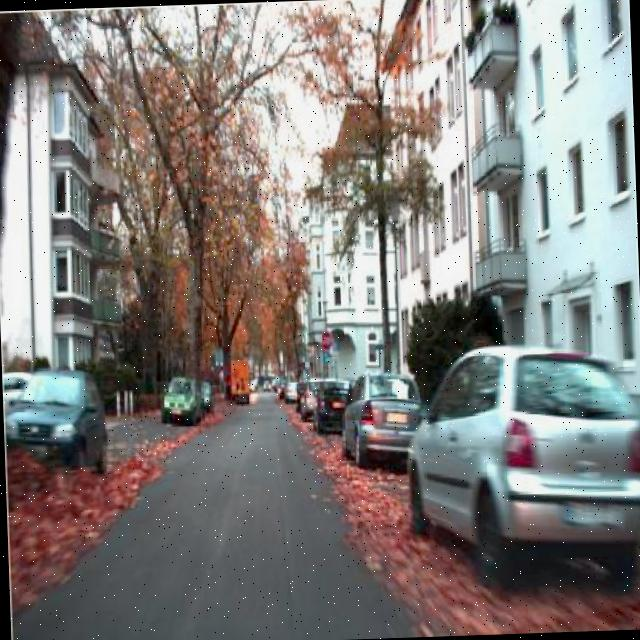Stop: (318, 328, 334, 352)
